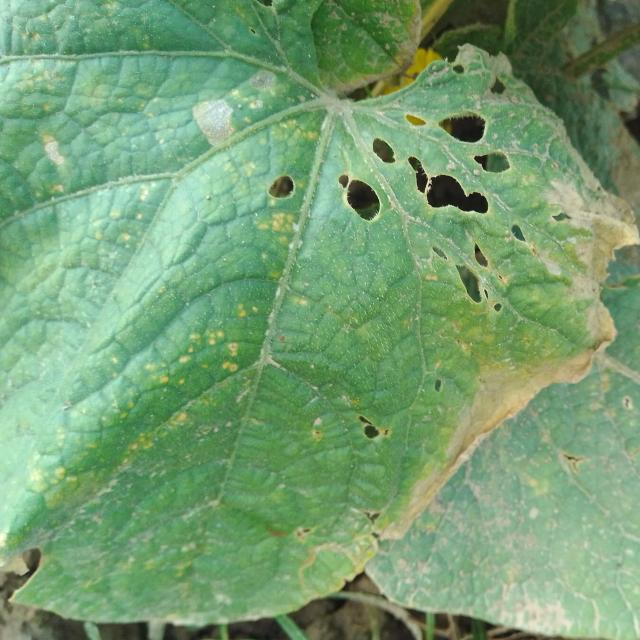cucumber_gummy: (0, 0, 640, 630), (361, 236, 640, 640), (497, 56, 640, 274)
